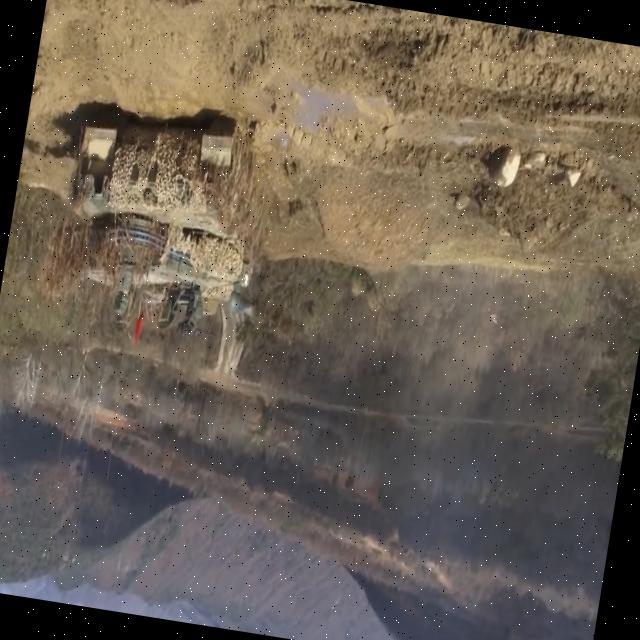korea tank: (40, 91, 332, 355)
